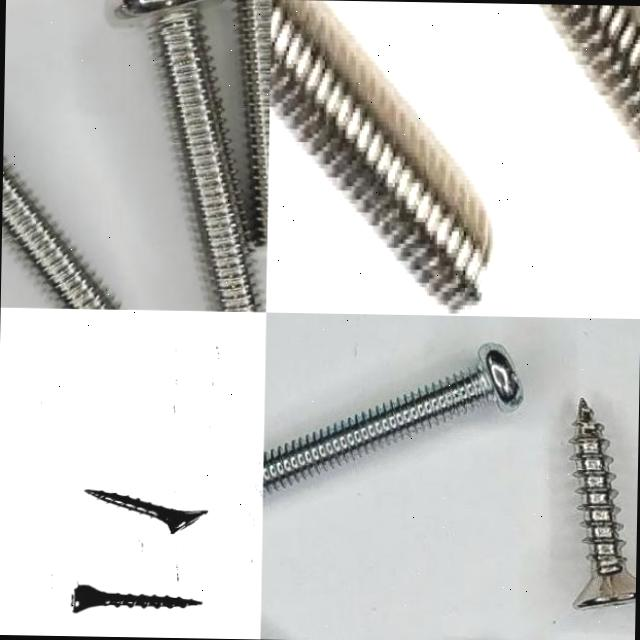Screw: (269, 0, 495, 313), (116, 0, 265, 312), (262, 343, 523, 495), (2, 160, 121, 309), (571, 397, 636, 609), (238, 0, 271, 245), (83, 489, 207, 533), (69, 585, 201, 613)
